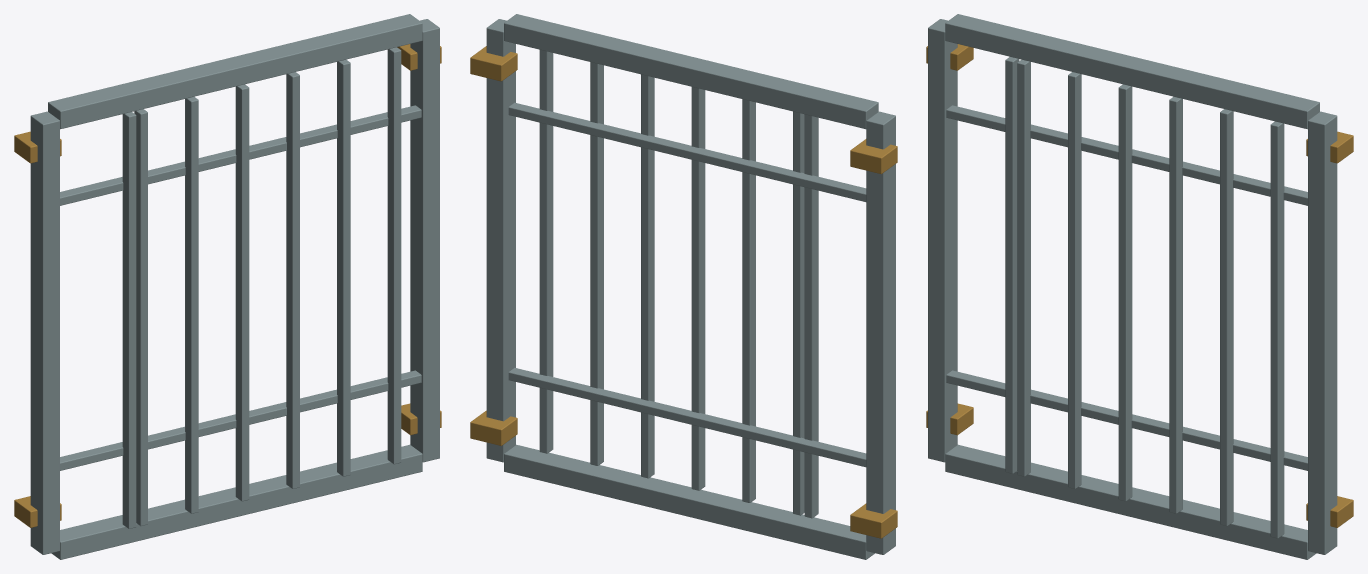
Rendered from source-edit.glb.
The picture shows the model from 3 angles, left to right: view 1: azimuth 30°, elevation 25°; view 2: azimuth 150°, elevation 25°; view 3: azimuth 330°, elevation 25°; orthographic projection.
Visible parts, largest first — view 1: Mount_Frame_Stile, Mount_Frame_Stile.001, Mount_Frame_Rail.001, Mount_Frame_Rail, Bar_6, Bar_3, Bar_0, Bar_2, Bar_5, Bar_4, Bar_1, Crossrail (+3 smaller); view 2: Mount_Frame_Stile, Mount_Frame_Rail.001, Mount_Frame_Stile.001, Mount_Frame_Rail, Bar_0, Bar_6, Bar_3, Bar_4, Bar_2, Bar_5, Crossrail, Crossrail.001 (+5 smaller); view 3: Mount_Frame_Stile.001, Mount_Frame_Stile, Mount_Frame_Rail.001, Mount_Frame_Rail, Bar_6, Bar_3, Bar_4, Bar_1, Bar_2, Bar_5, Bar_0, Crossrail (+4 smaller).
Part boxes in pixels (<box>): Mount_Frame_Stile: <box>30,111,59,554</box>; Mount_Frame_Stile.001: <box>410,19,439,462</box>; Mount_Frame_Rail.001: <box>48,14,422,129</box>; Mount_Frame_Rail: <box>51,444,422,559</box>; Bar_6: <box>387,47,401,464</box>; Bar_3: <box>235,84,249,501</box>; Bar_0: <box>122,112,136,528</box>; Bar_2: <box>185,96,198,513</box>; Bar_5: <box>337,59,350,476</box>; Bar_4: <box>286,72,299,488</box>; Bar_1: <box>134,109,147,526</box>; Crossrail: <box>60,105,421,205</box>; Mount_Frame_Stile: <box>866,111,895,554</box>; Mount_Frame_Rail.001: <box>504,14,878,129</box>; Mount_Frame_Stile.001: <box>486,19,515,462</box>; Mount_Frame_Rail: <box>504,444,874,559</box>; Bar_0: <box>804,114,818,518</box>; Bar_6: <box>539,50,553,453</box>; Bar_3: <box>691,87,705,490</box>; Bar_4: <box>641,74,654,478</box>; Bar_2: <box>742,99,755,502</box>; Bar_5: <box>590,62,603,465</box>; Crossrail: <box>508,102,866,201</box>; Crossrail.001: <box>508,368,866,467</box>; Mount_Frame_Stile.001: <box>1308,111,1337,554</box>; Mount_Frame_Stile: <box>928,19,957,462</box>; Mount_Frame_Rail.001: <box>945,14,1319,129</box>; Mount_Frame_Rail: <box>945,444,1316,559</box>; Bar_6: <box>1270,121,1284,538</box>; Bar_3: <box>1118,84,1132,501</box>; Bar_4: <box>1169,96,1182,513</box>; Bar_1: <box>1017,59,1030,476</box>; Bar_2: <box>1068,72,1081,488</box>; Bar_5: <box>1220,109,1233,526</box>; Bar_0: <box>1005,57,1019,473</box>; Crossrail: <box>946,105,1307,205</box>.
Size of the model in its own units: 1.3 by 1.35 by 0.1425.
